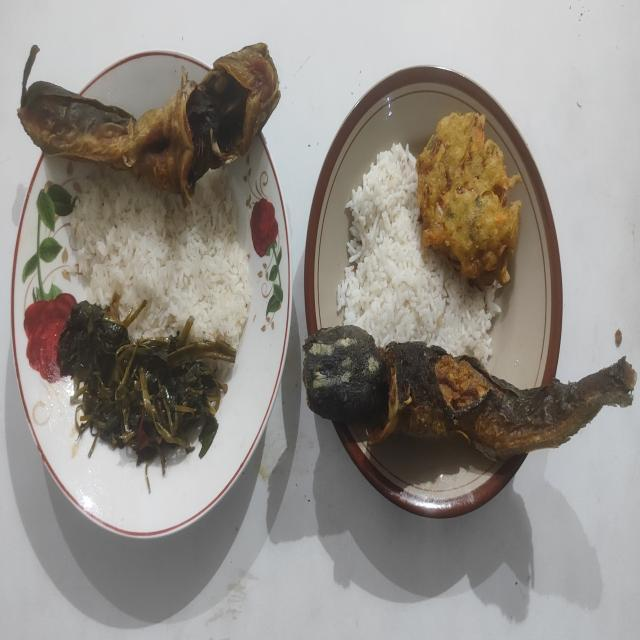nasi_putih: (336, 143, 502, 364), (71, 171, 251, 347)
tumis_kangkung: (58, 300, 236, 492)
